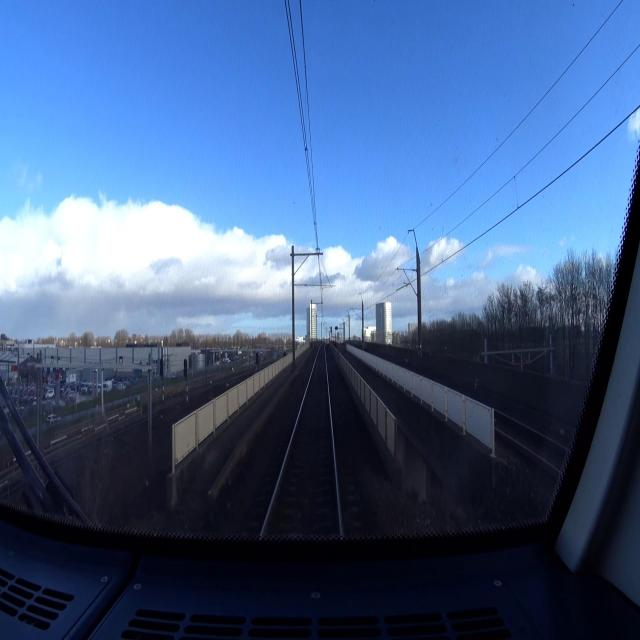rail-track: (263, 347, 338, 539), (492, 414, 568, 472)
